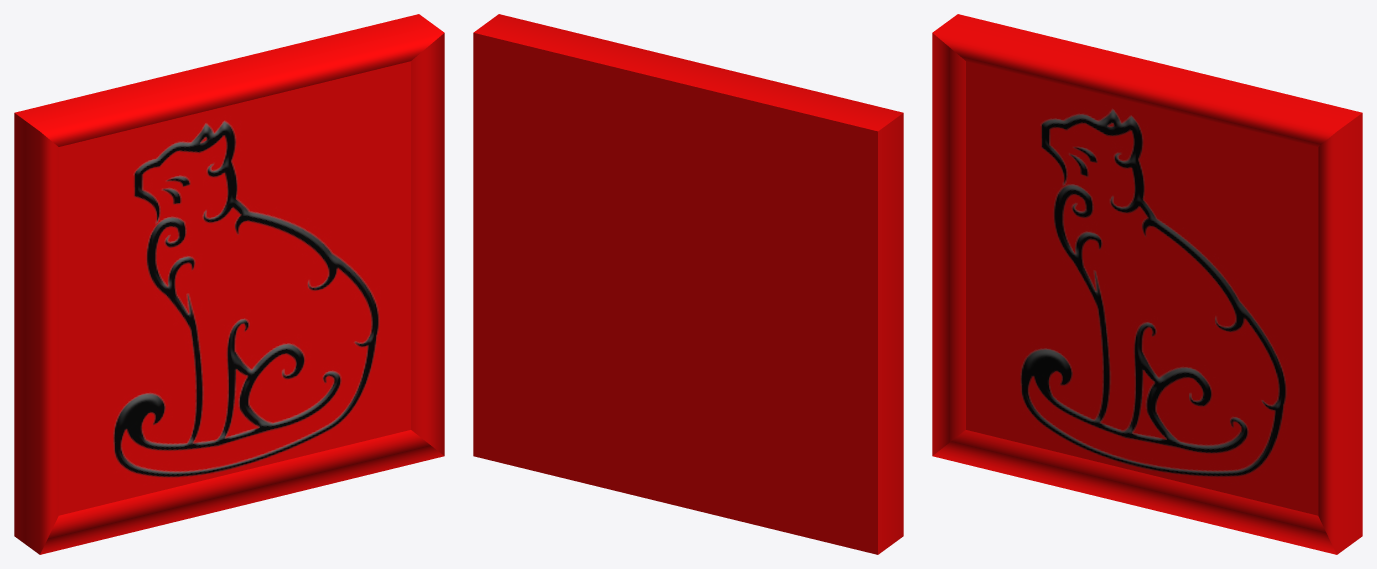
The model's file is Red Cat.fbx.
The picture shows the model from 3 angles, left to right: view 1: azimuth 30°, elevation 25°; view 2: azimuth 150°, elevation 25°; view 3: azimuth 330°, elevation 25°; orthographic projection.
Parts seen in each view (by area): view 1: pCube1; view 2: pCube1; view 3: pCube1.
Boxes of the visible parts, x1,y1,x2,y2 form: pCube1: (14, 14, 444, 554); pCube1: (473, 14, 903, 554); pCube1: (932, 14, 1362, 554).
Bounding box in the file's own units: 3 × 3 × 0.3283.
Materials: 1 (1 with a texture image).
